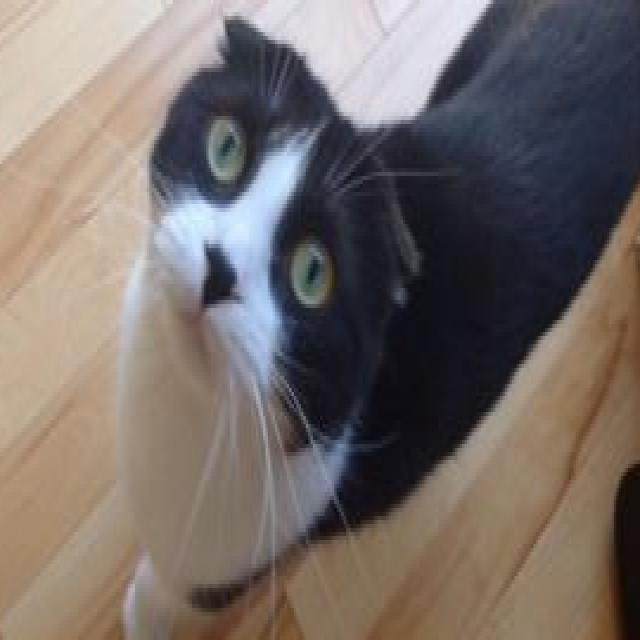Scottish Fold: (109, 0, 640, 640)
